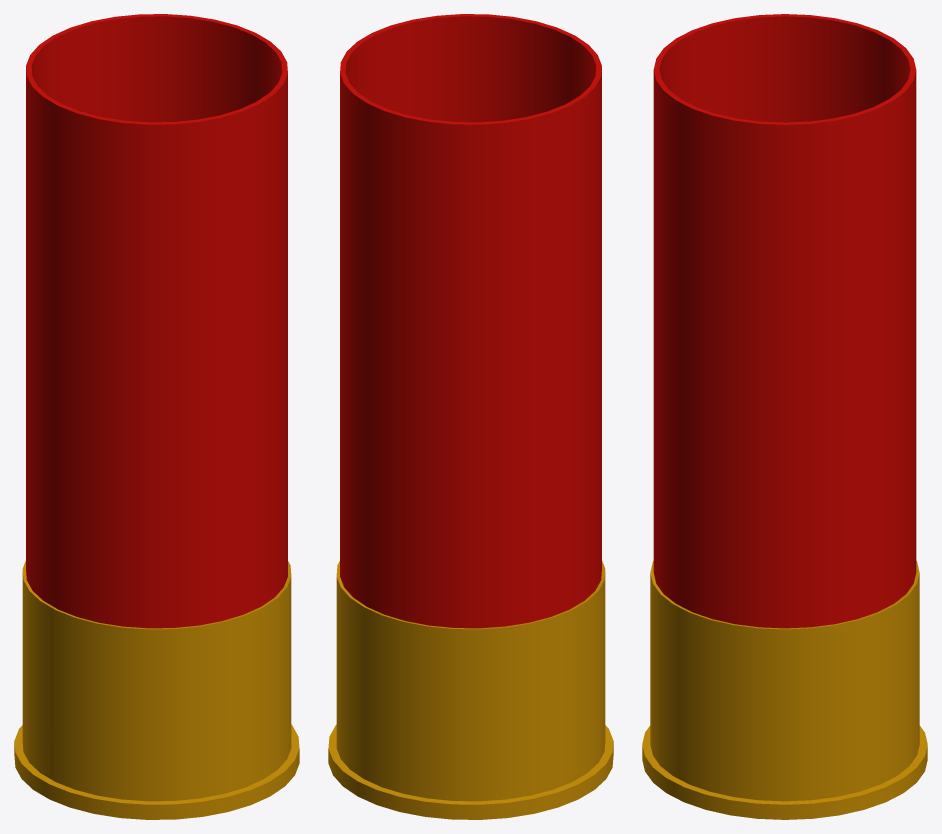
Rendered from 12cal_shell.fbx.
3 renders of one model, left to right at view 1: azimuth 30°, elevation 25°; view 2: azimuth 150°, elevation 25°; view 3: azimuth 270°, elevation 25°, orthographic.
Visible parts, largest first — view 1: Cylinder; view 2: Cylinder; view 3: Cylinder.
Part boxes in pixels (<box>): Cylinder: <box>14,14,299,819</box>; Cylinder: <box>328,14,613,819</box>; Cylinder: <box>642,14,927,819</box>.
Bounding box in the file's own units: 2.01 × 5.36 × 2.01.
